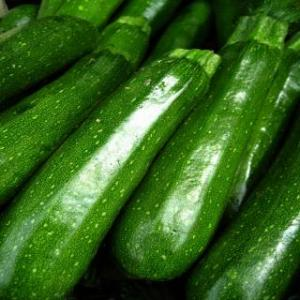zucchini: (106, 26, 300, 300)
